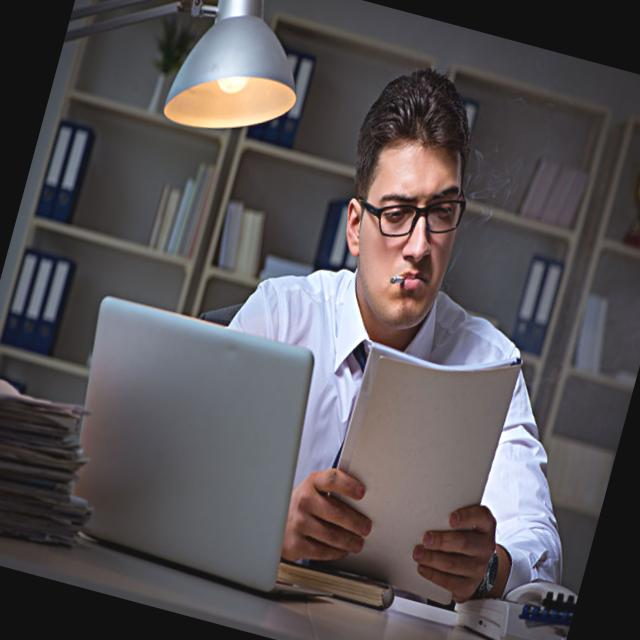cigarette: (389, 268, 414, 290)
